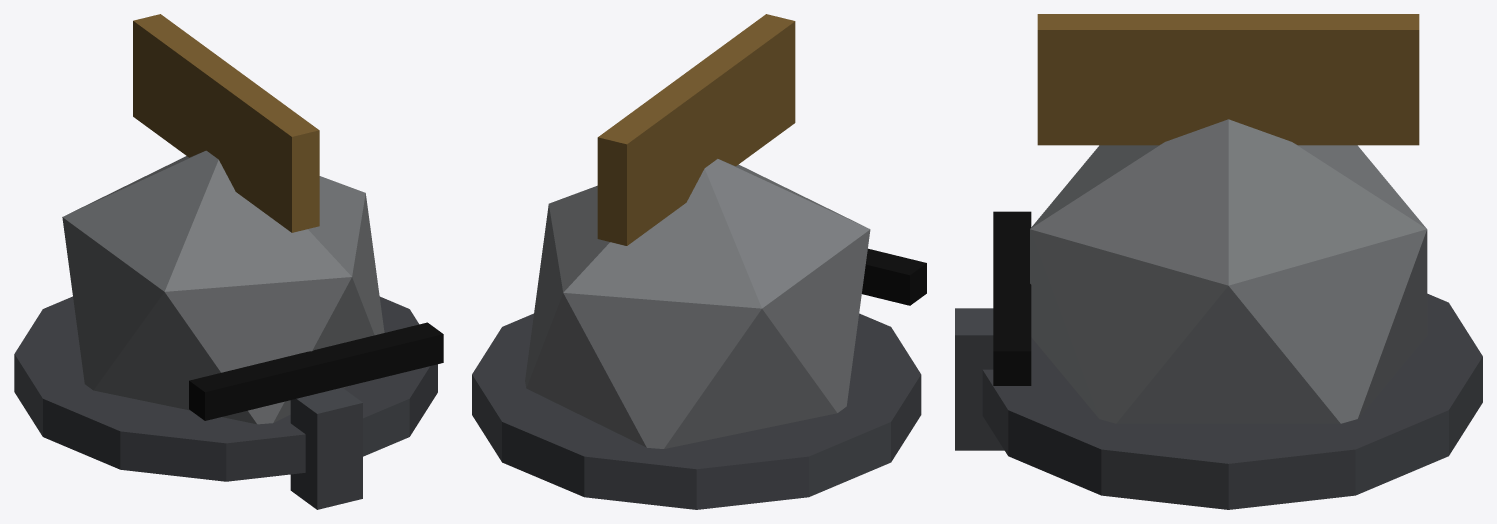
File: old_watch_helm.glb
The picture shows the model from 3 angles, left to right: view 1: azimuth 30°, elevation 25°; view 2: azimuth 150°, elevation 25°; view 3: azimuth 270°, elevation 25°; orthographic projection. The views are drawn at different scales.
Visible parts, largest first — view 1: OldWatchHelm; view 2: OldWatchHelm; view 3: OldWatchHelm.
Boxes of the visible parts, x1,y1,x2,y2 form: OldWatchHelm: (14,14,443,509); OldWatchHelm: (472,14,926,509); OldWatchHelm: (955,14,1482,509).
Size of the model in its own units: 0.4 by 0.3915 by 0.415.
